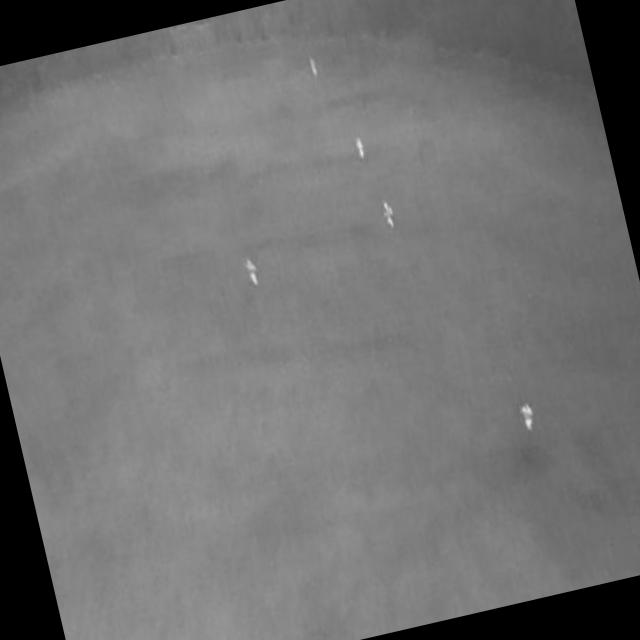person: (517, 397, 539, 435), (243, 257, 262, 292), (380, 198, 397, 232), (353, 134, 368, 161), (307, 54, 320, 80)
